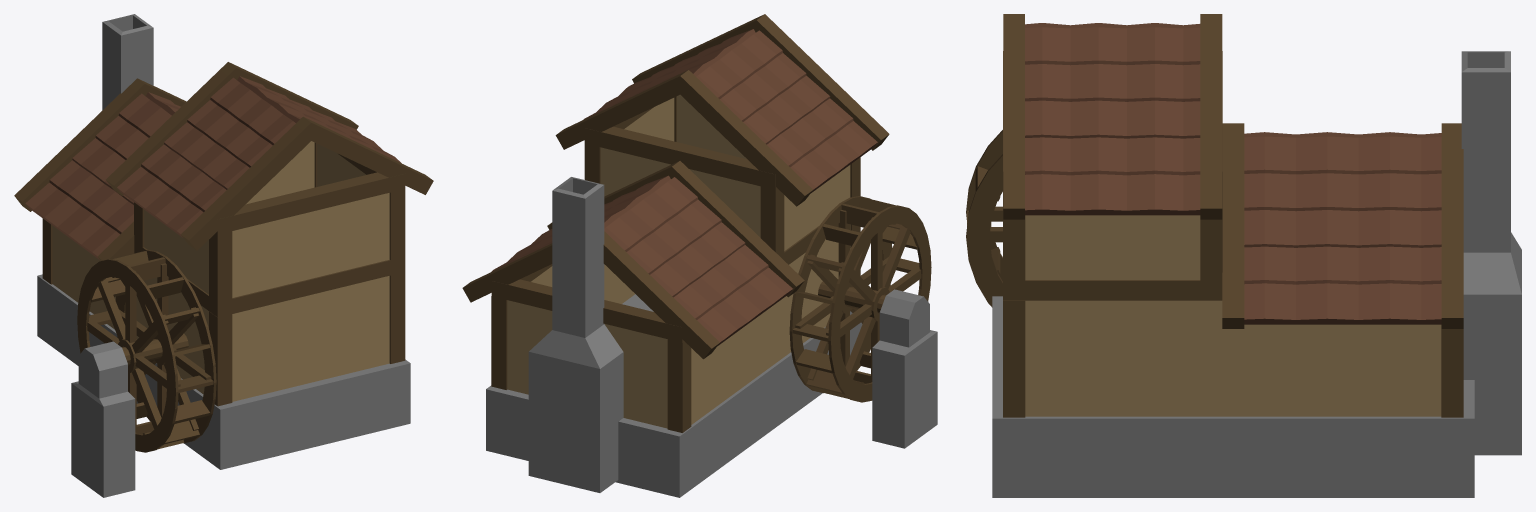
Rendered from Water Mill near.fbx.
3 views of the same model, side by side, from view 1: azimuth 30°, elevation 25°; view 2: azimuth 150°, elevation 25°; view 3: azimuth 270°, elevation 25° (orthographic). The views are drawn at different scales.
Visible parts, largest first — view 1: Cylinder.002; view 2: Cylinder.002; view 3: Cylinder.002.
Part boxes in pixels (x1,y1,x2,y2): Cylinder.002: (14,14,433,497); Cylinder.002: (462,14,937,497); Cylinder.002: (966,14,1521,497).
Bounding box in the file's own units: 1079 × 1137 × 1268.
